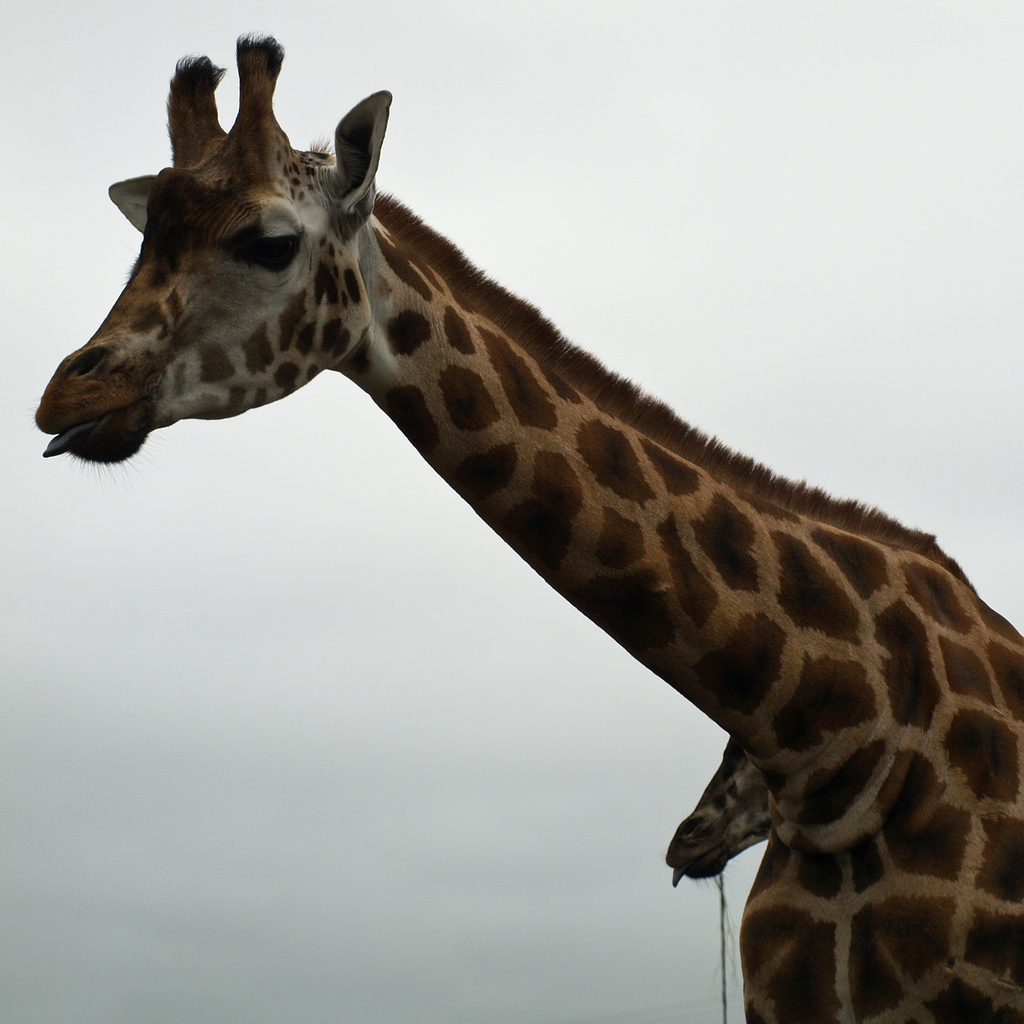giraffe: (65, 37, 982, 941)
